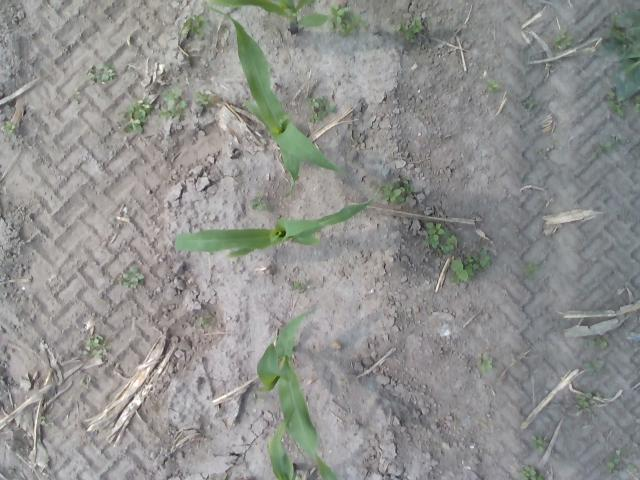Maize: (201, 2, 349, 199), (255, 308, 340, 480), (174, 188, 382, 258), (205, 0, 334, 33), (268, 410, 303, 480)
Weeds: (603, 9, 640, 103), (450, 248, 492, 284), (328, 3, 368, 38), (423, 221, 458, 256), (120, 97, 152, 134), (602, 449, 638, 476), (160, 86, 186, 120), (307, 95, 335, 124), (380, 179, 413, 203), (395, 15, 424, 42), (82, 334, 112, 360), (182, 13, 210, 40), (114, 267, 145, 288), (88, 61, 116, 82), (552, 29, 576, 51), (605, 90, 624, 117), (592, 142, 614, 160), (574, 391, 594, 410), (518, 465, 542, 480), (292, 280, 312, 297), (523, 262, 540, 281), (530, 435, 549, 452), (476, 354, 493, 372), (588, 334, 607, 350), (195, 91, 214, 107), (197, 314, 214, 330), (252, 193, 266, 211), (584, 360, 604, 372), (2, 120, 16, 134), (486, 80, 502, 92), (525, 97, 538, 108), (74, 87, 81, 104), (634, 94, 640, 112), (209, 474, 227, 480), (252, 396, 264, 404), (38, 415, 46, 426), (534, 147, 543, 155), (596, 392, 604, 400), (80, 378, 86, 386)
